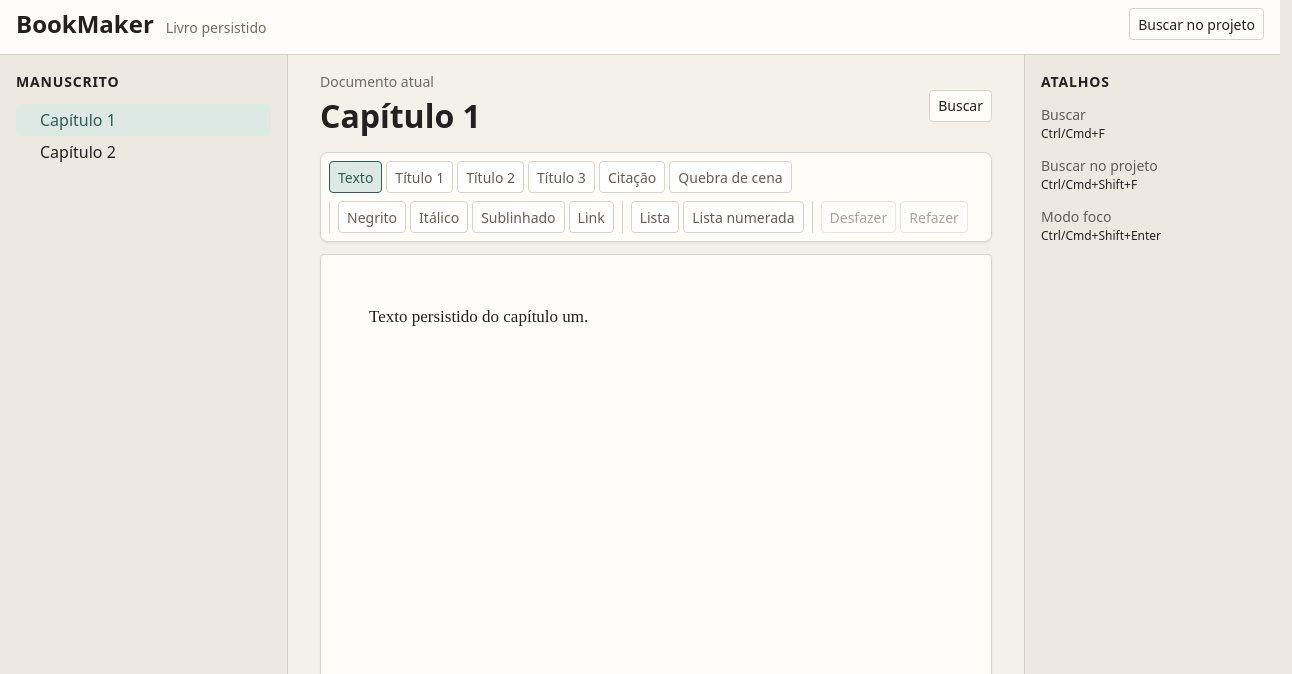
Test: WritingWorkspace › flushes the current document before loading another one
Expected: the field named "Conteúdo de Capítulo 1" is shown, [369,307,588,326]
What coordinates should you click on to do the following:
click the button "Quebra de cena"
I would click on:
 (730, 177)
Its box is [669,161,792,193].
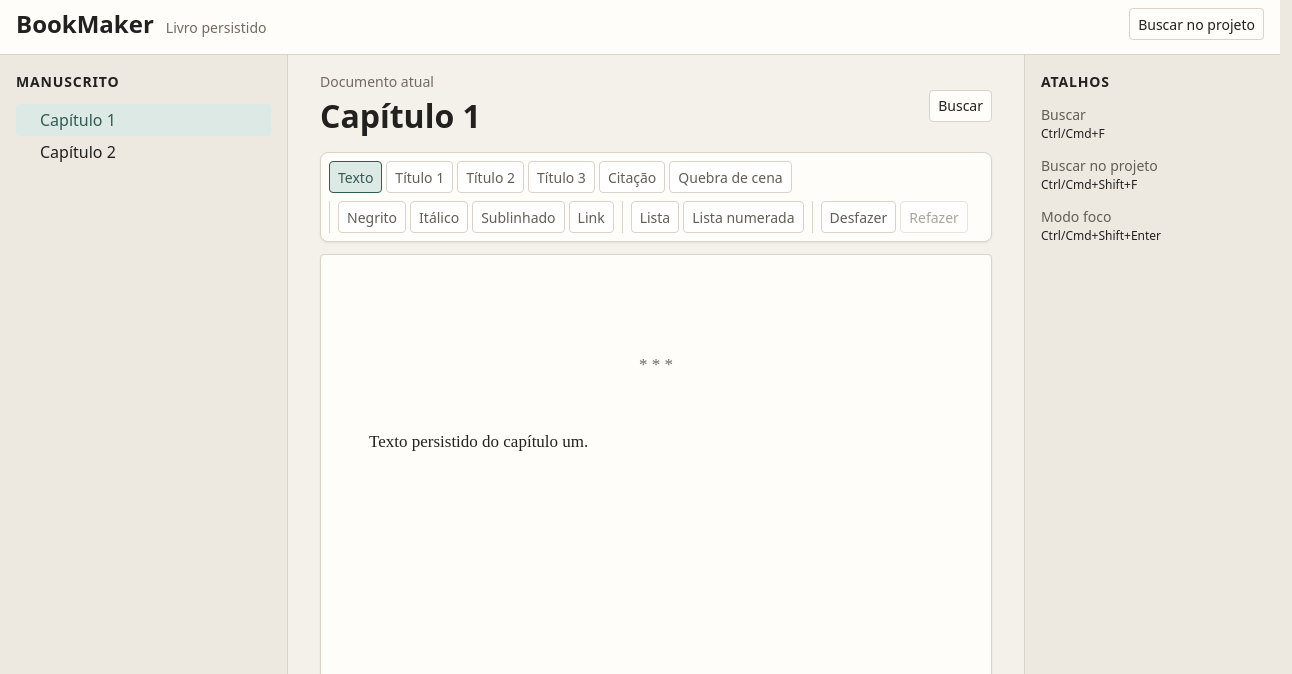
What coordinates should you click on to do the following:
click the list item "Capítulo 2"
I would click on:
 (78, 152)
Its box is [40,141,116,163].
(page scrolled)
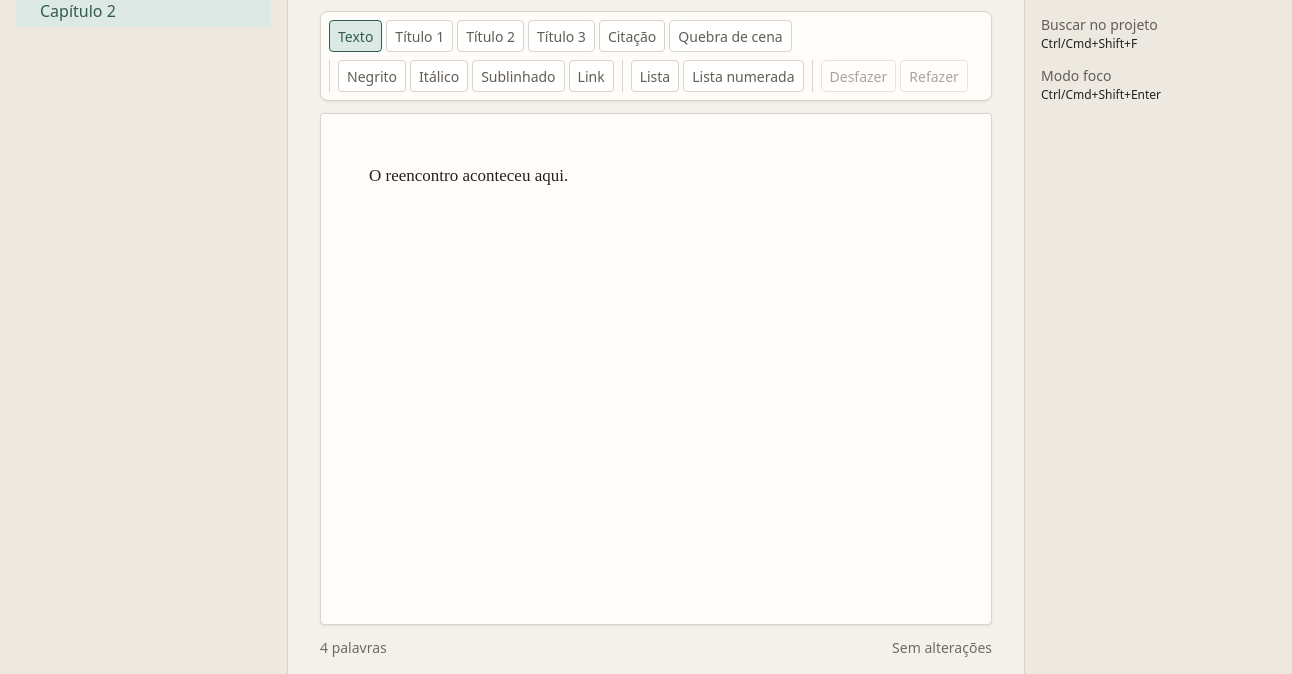
Expected: the field named "Conteúdo de Capítulo 2" reads "O reencontro aconteceu aqui.", [369,166,568,185]
